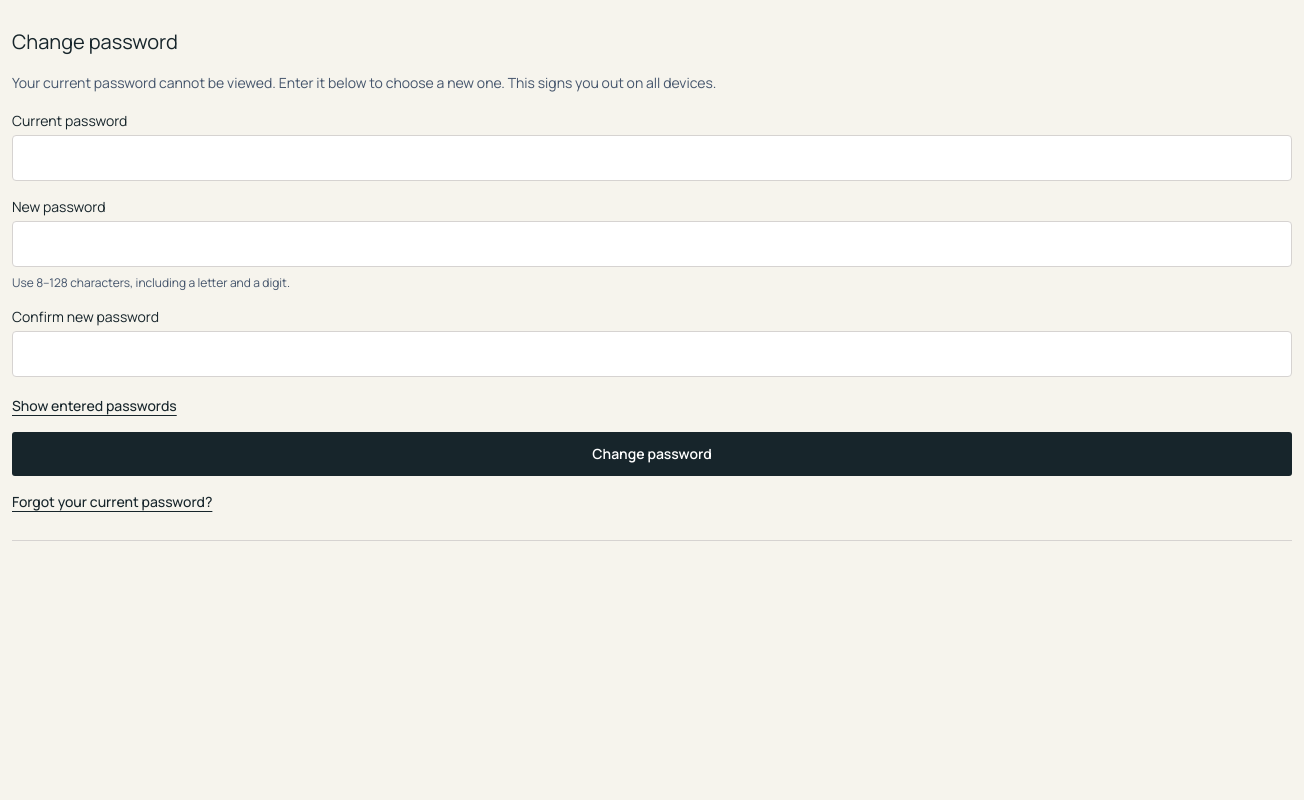
offers a sign-in route for an expired session without pretending a password changed
Type "OldPassword123" into the password field labelled "Current password" at (652, 158), box [12,135,1292,181]
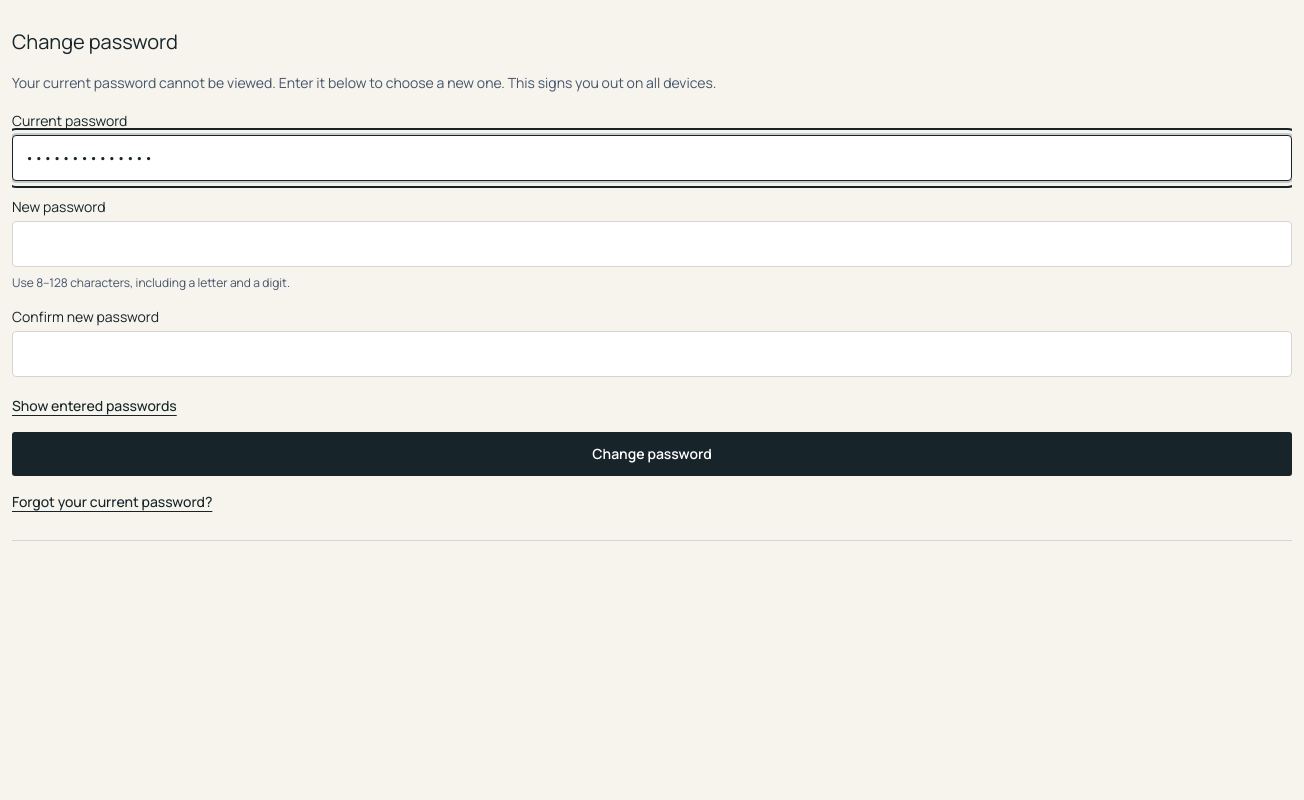
Type "NewPassword123" into the password field labelled "New password" at (652, 244), box [12,221,1292,267]
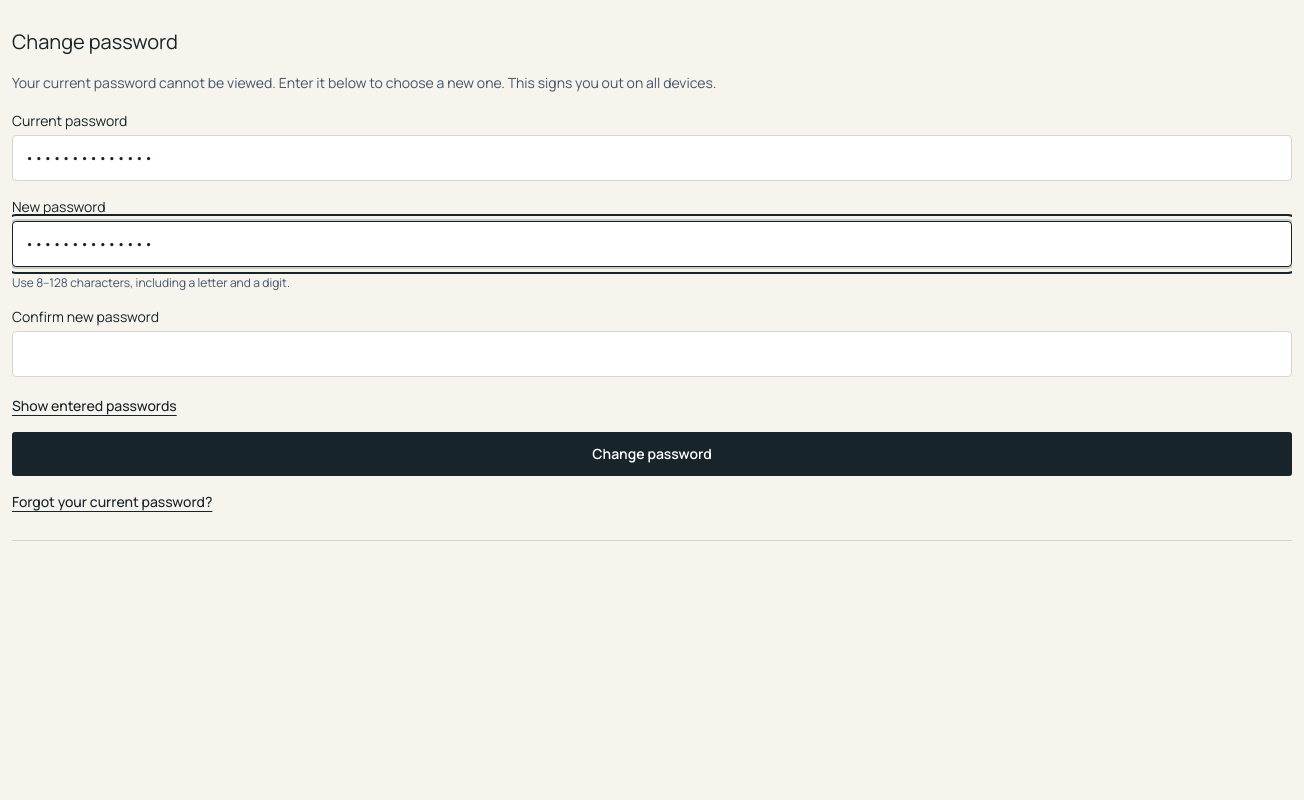
Type "NewPassword123" into the password field labelled "Confirm new password" at (652, 354), box [12,331,1292,377]
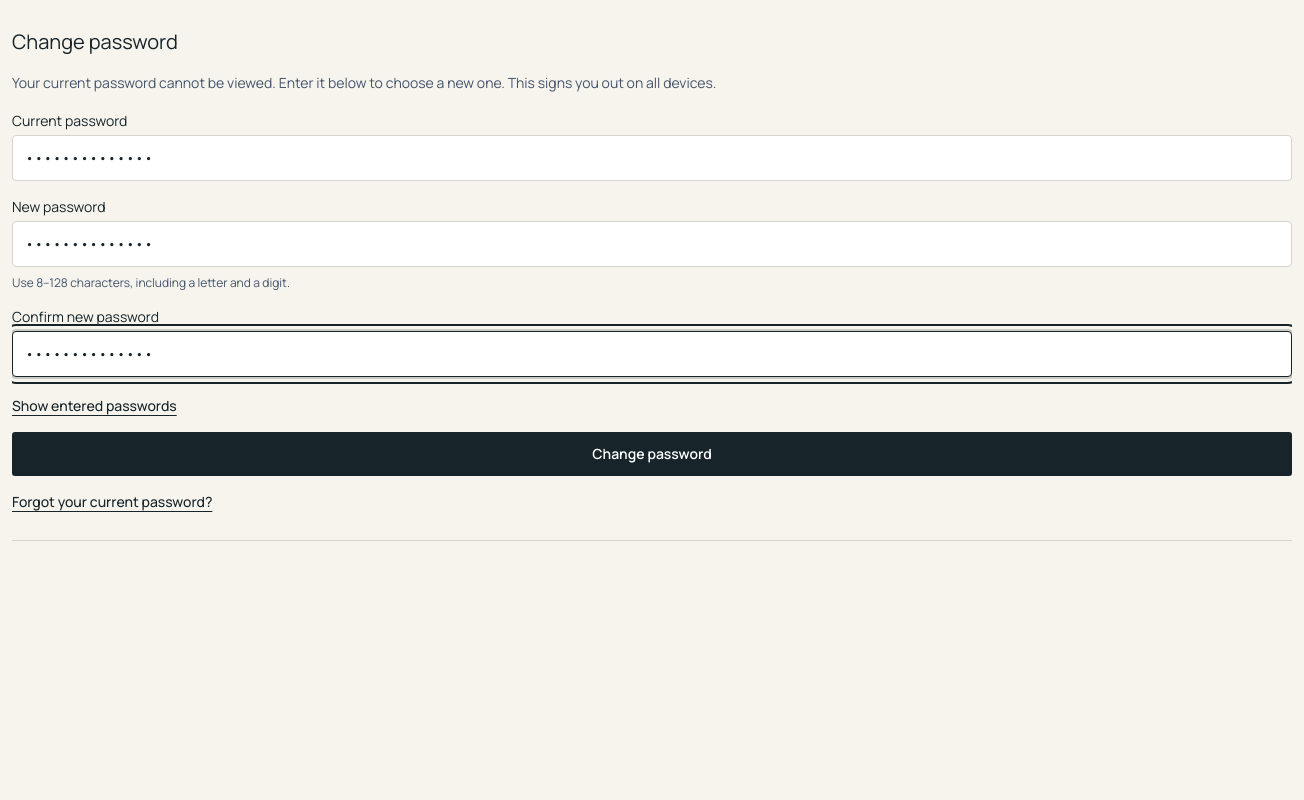
Click the button "Change password" at (652, 454), box [12,432,1292,476]
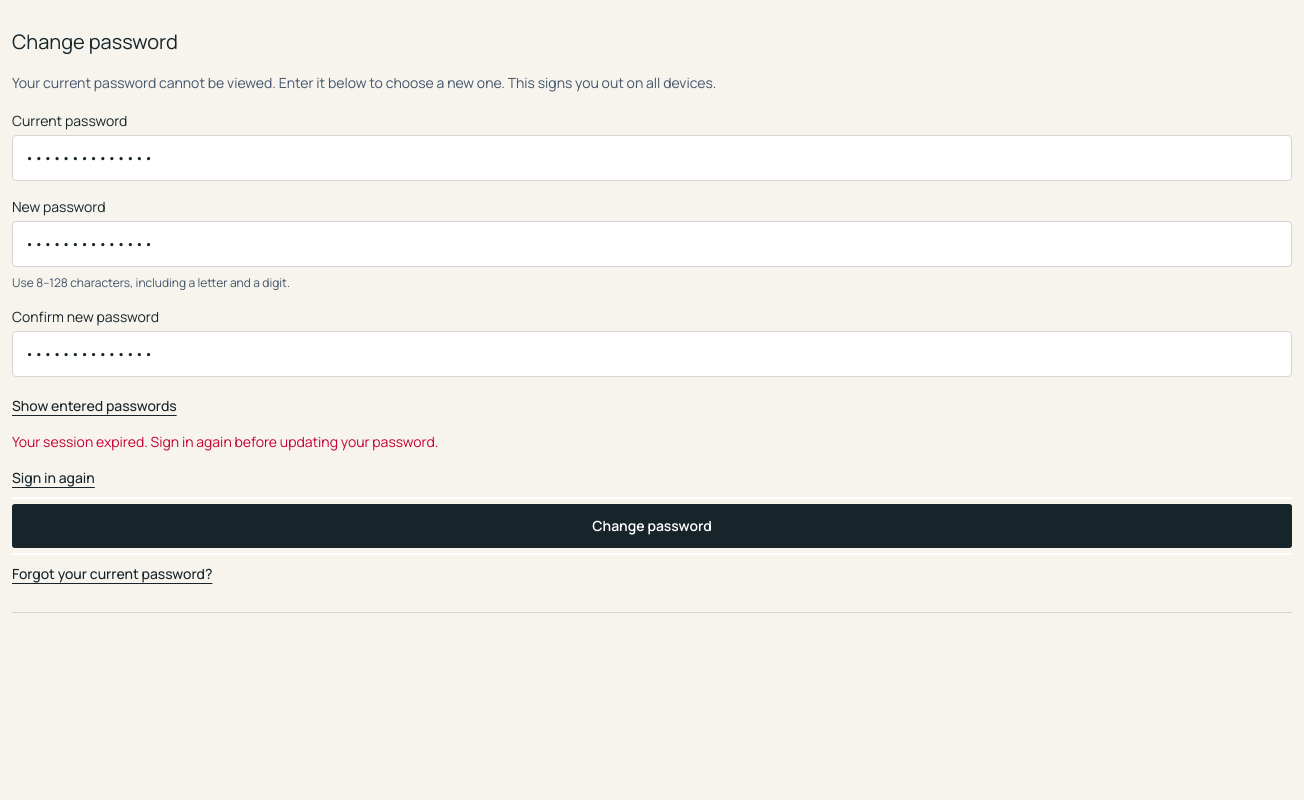
Expected: the message shows "session expired", [12,432,438,451]
